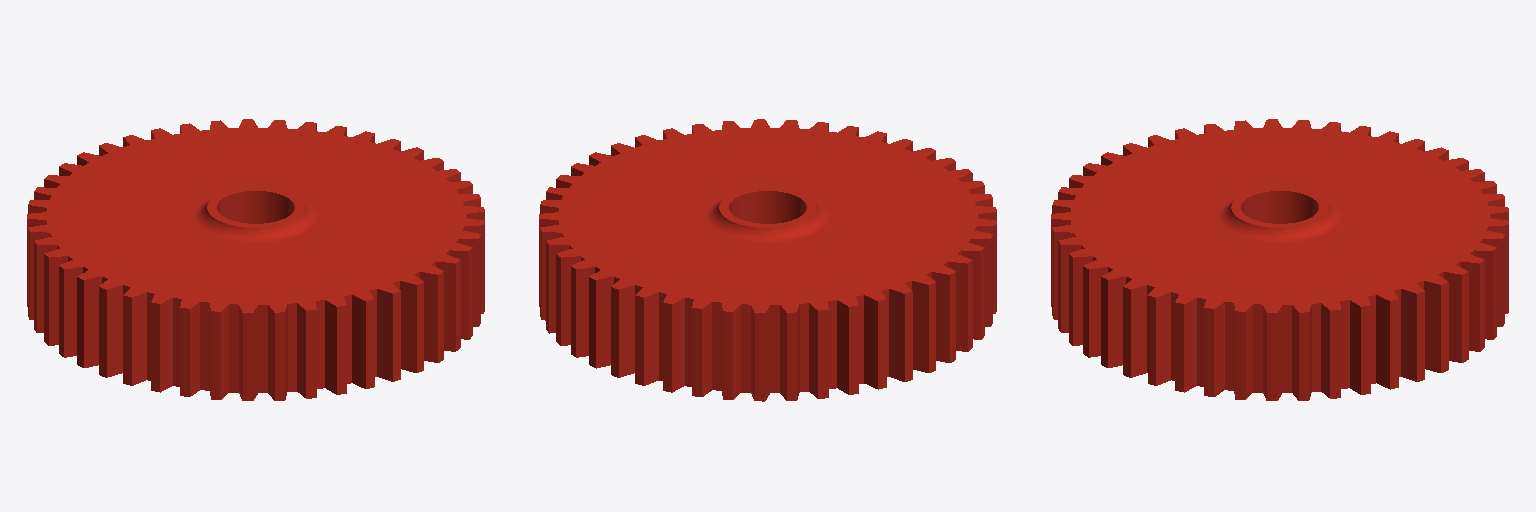
The picture shows the model from 3 angles: view 1: azimuth 30°, elevation 25°; view 2: azimuth 150°, elevation 25°; view 3: azimuth 270°, elevation 25°; orthographic projection.
Parts seen in each view (by area): view 1: MeshBody1; view 2: MeshBody1; view 3: MeshBody1.
Part boxes in pixels (x1,y1,x2,y2): MeshBody1: (27,119,484,400); MeshBody1: (539,119,996,401); MeshBody1: (1051,119,1508,400).
Bounding box in the file's own units: 47 × 11 × 46.97.